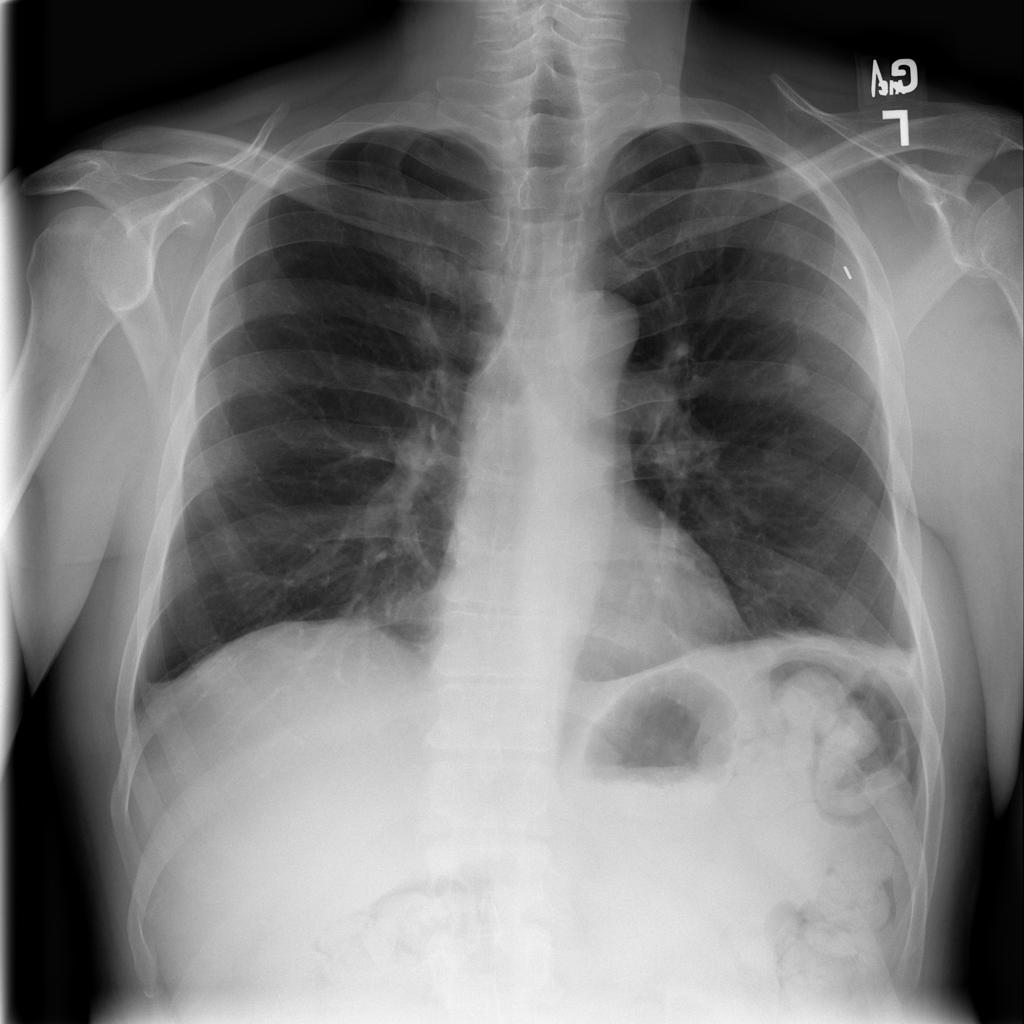nodule: (759, 339, 833, 407)
